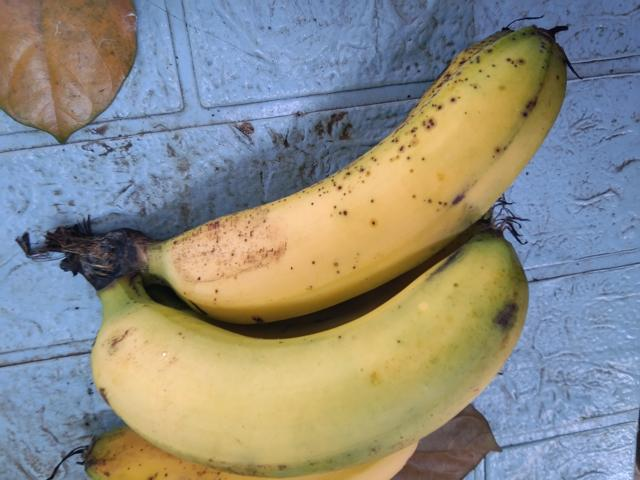freshripe: (50, 239, 557, 479)
ripe: (132, 31, 580, 321)
